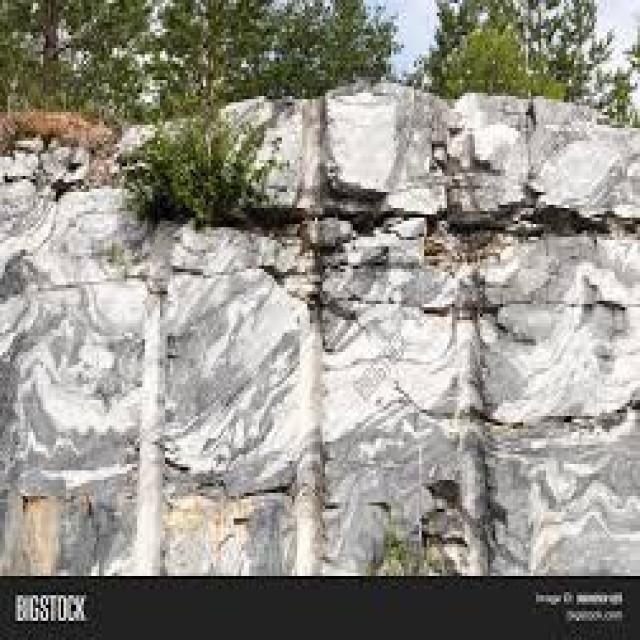Metamorphic: (2, 48, 635, 563)
